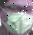with_mask: (2, 1, 33, 35)
